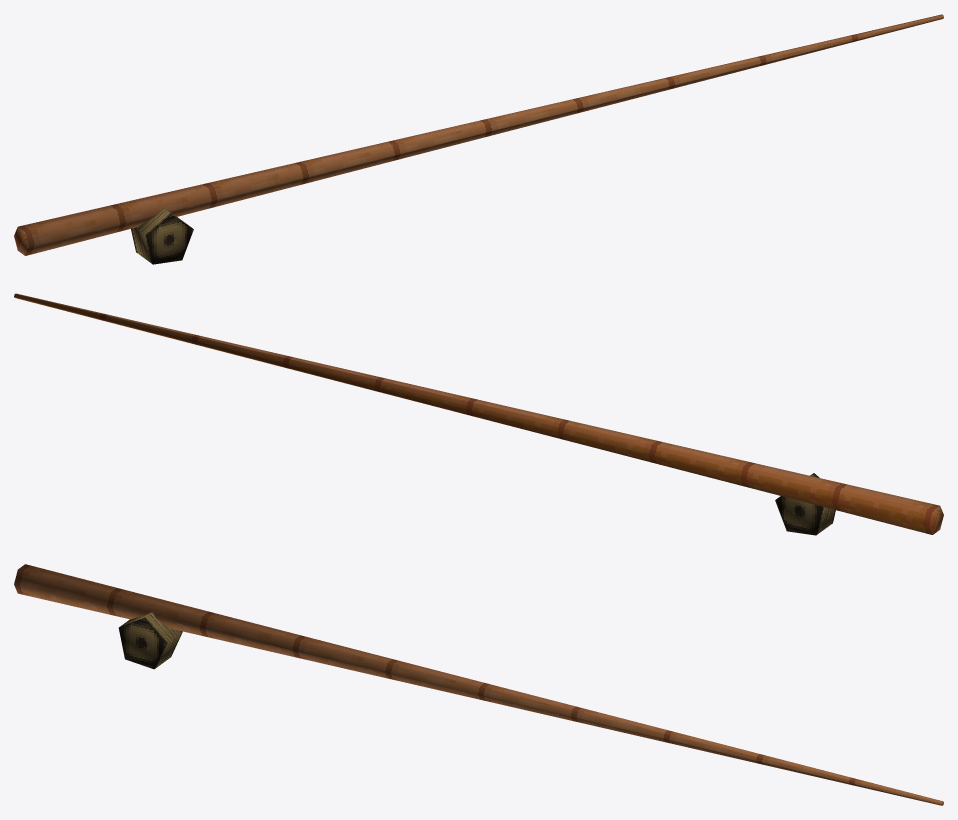
3 views of the same model, one above another, from view 1: azimuth 30°, elevation 25°; view 2: azimuth 150°, elevation 25°; view 3: azimuth 330°, elevation 25° (orthographic).
Parts seen in each view (by area): view 1: IT38_DMSPRITEDEF_node; view 2: IT38_DMSPRITEDEF_node; view 3: IT38_DMSPRITEDEF_node.
Boxes of the visible parts, box(x1,y1,x2,y2) form: IT38_DMSPRITEDEF_node: box(14, 14, 943, 264); IT38_DMSPRITEDEF_node: box(14, 293, 943, 535); IT38_DMSPRITEDEF_node: box(14, 564, 943, 805).
Bounding box in the file's own units: 6.38 × 0.3743 × 0.2578.
Materials: 3 (3 with a texture image).
